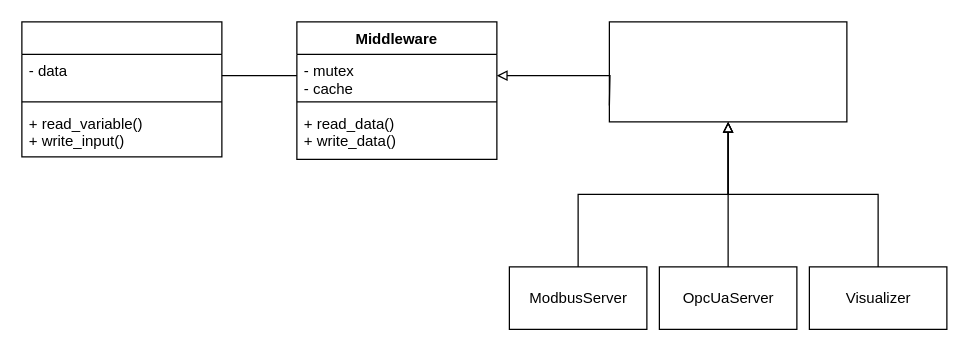
Image size: 969x351. Some labels were removed from this diagram. Here are the shapes that lost their labels. From the top down, the box of each, then its label:
(21, 21, 222, 157): Simulator
(608, 21, 847, 122): <<Abstract>> Server + run()
